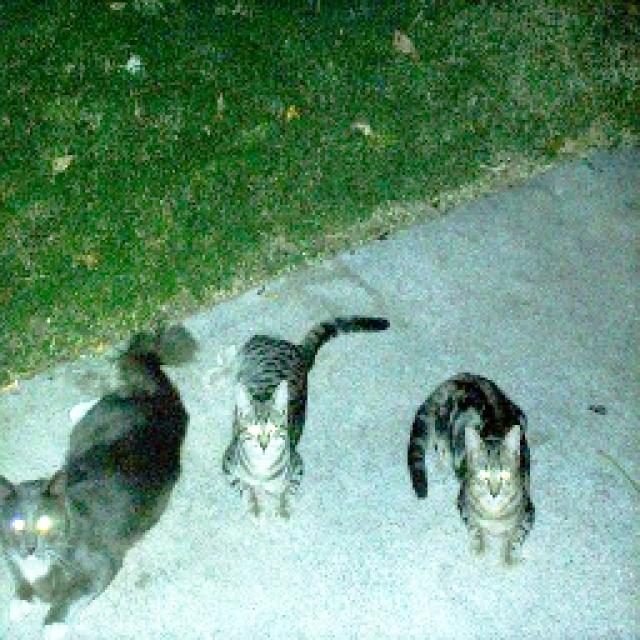cat: (0, 334, 201, 640), (201, 303, 387, 524), (395, 350, 548, 556)
